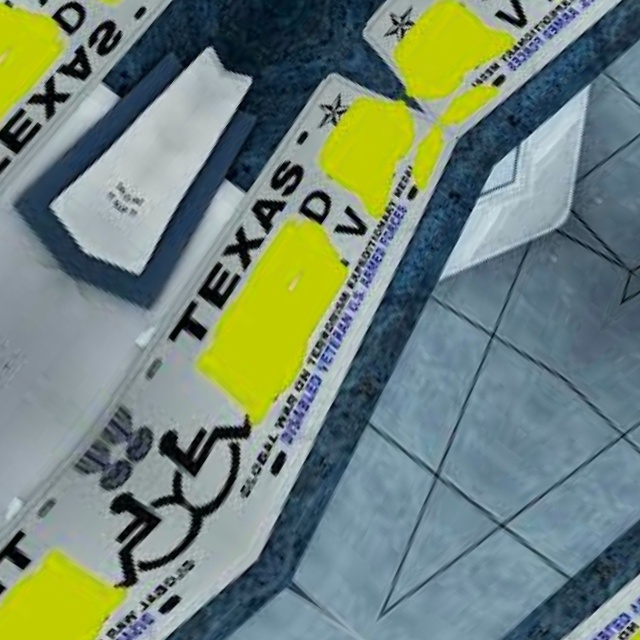ISA: (55, 464, 219, 630), (132, 364, 296, 530)
